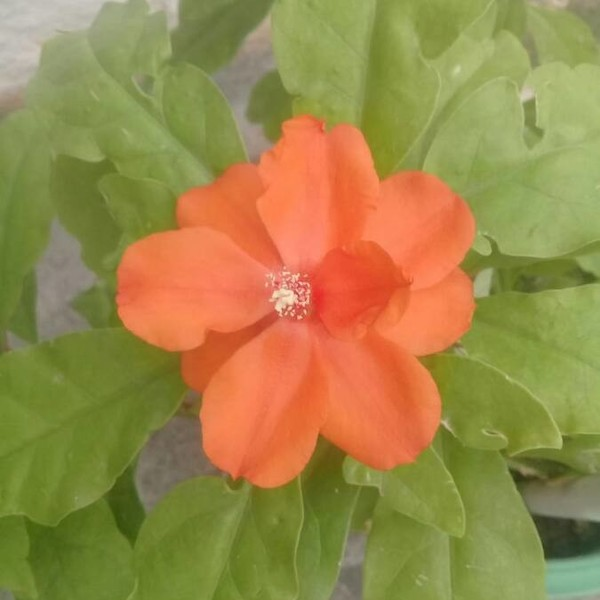obstacle: (34, 71, 513, 578)
